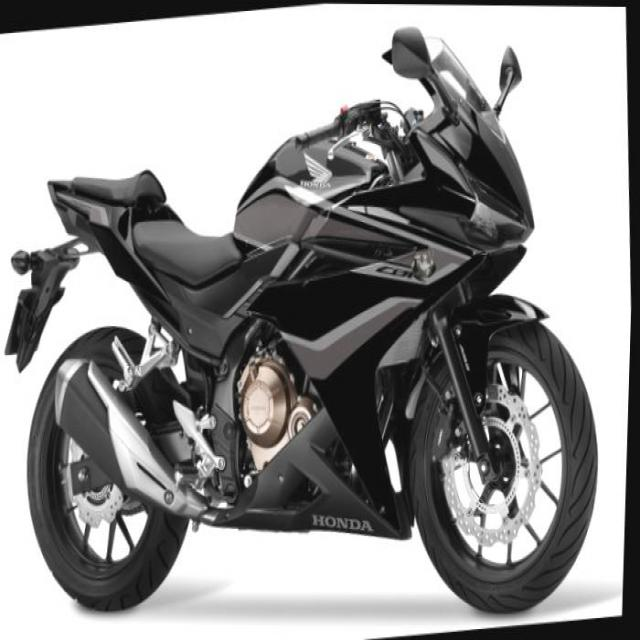CBR500R: (5, 9, 621, 638)
